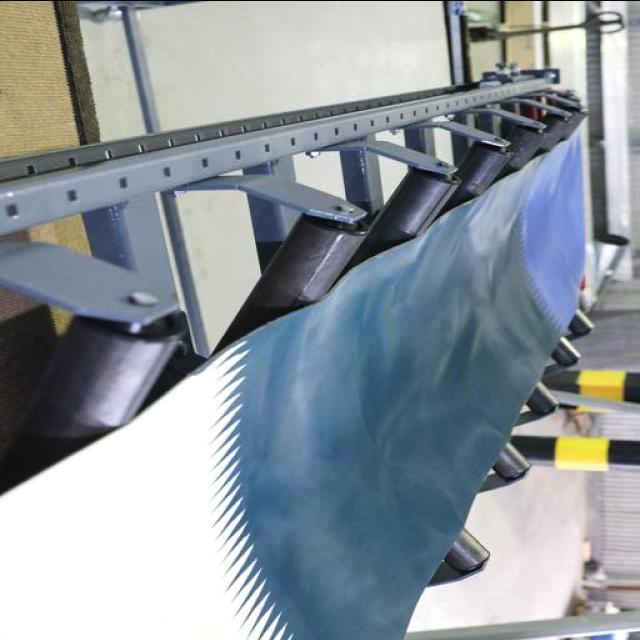conveyor: (0, 125, 583, 640)
